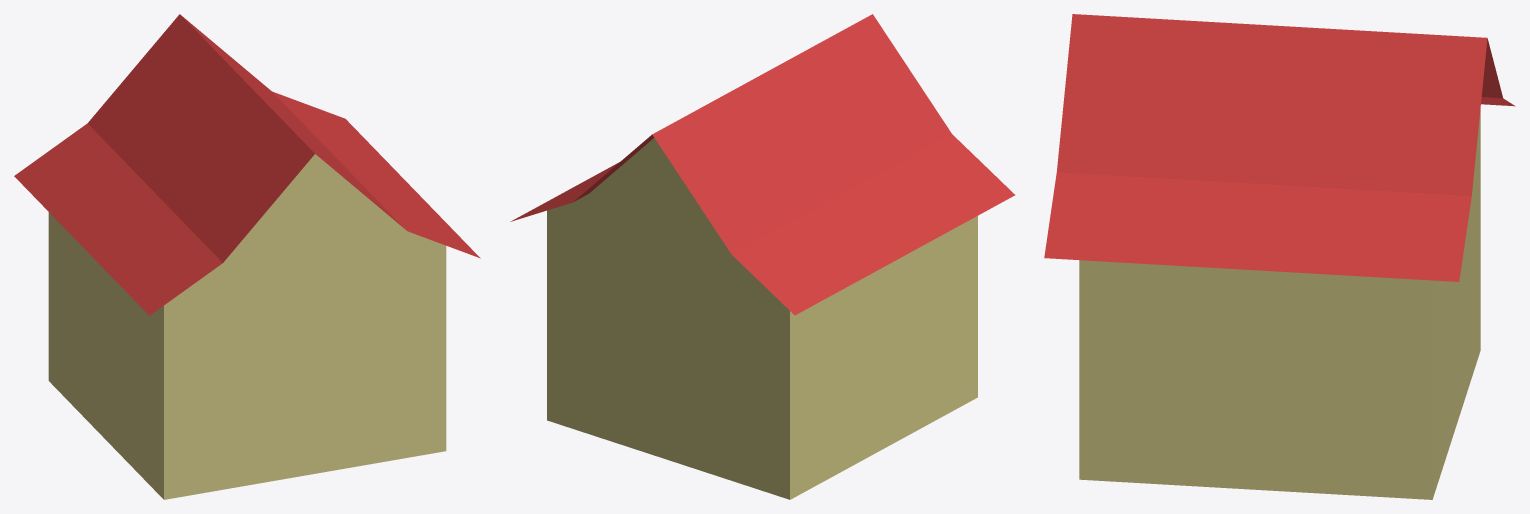
3 renders of one model, left to right at view 1: azimuth 30°, elevation 25°; view 2: azimuth 150°, elevation 25°; view 3: azimuth 270°, elevation 25°, orthographic. The views are drawn at different scales.
Size of the model in its own units: 15.14 by 15.12 by 13.77.
